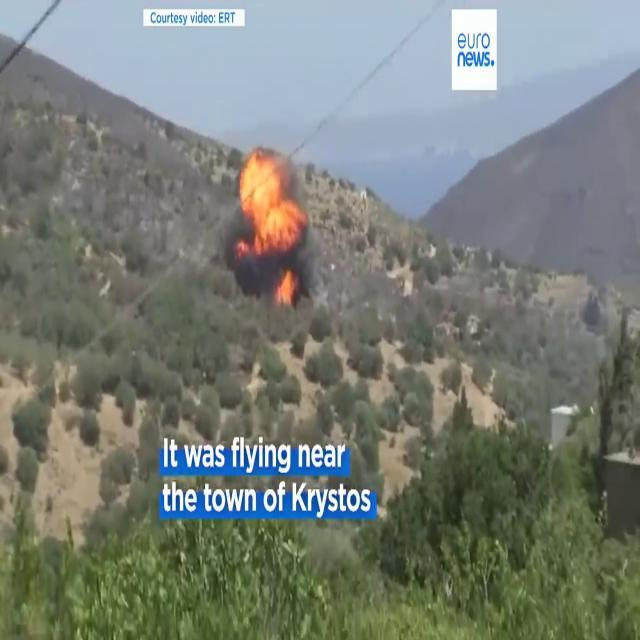Fire: (234, 146, 308, 288)
